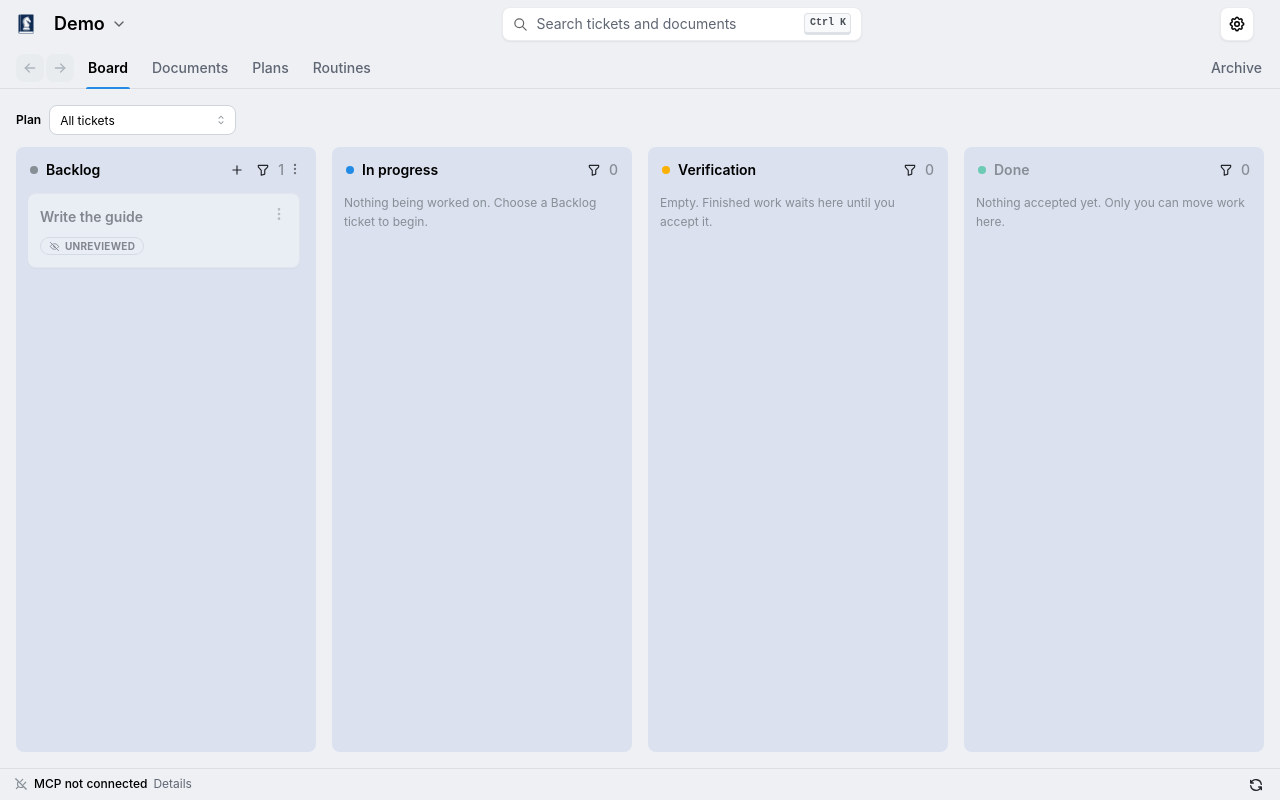
Scenario: back and forward › goes back through documents and views, and forward again
Check: the text "Write the guide" is shown, box [40,208,143,225]
Click the tab "Documents" at coordinates (190, 68), box [150,48,230,88]
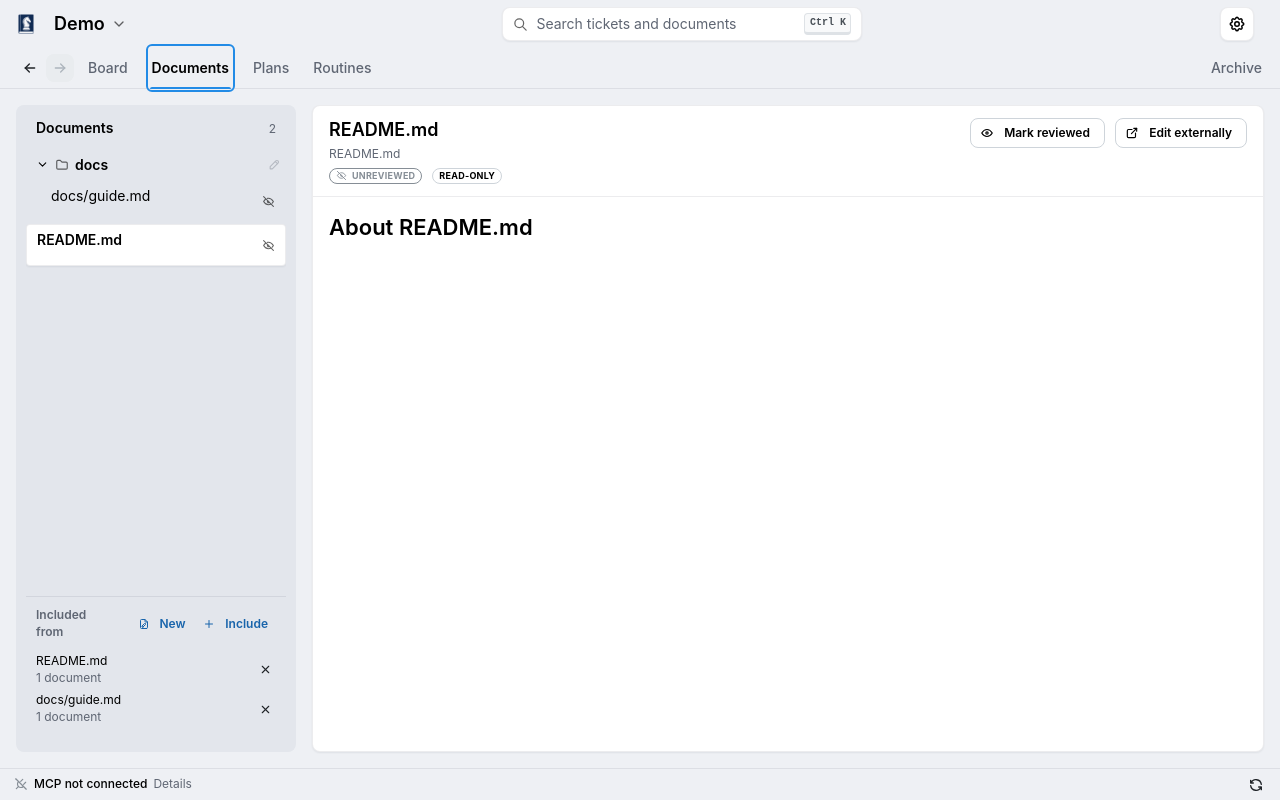
Click the button "docs/guide.md" at coordinates (163, 201), box [40,180,286,222]
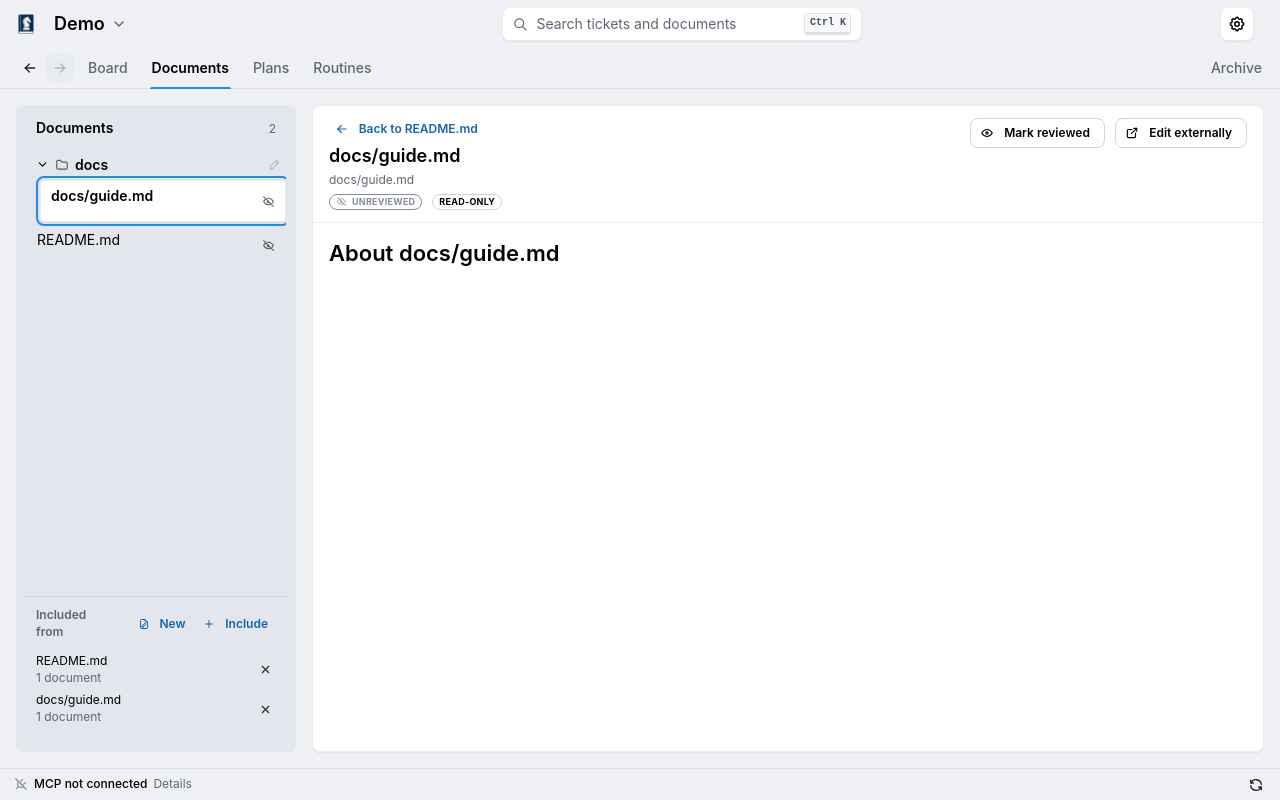
Click the button named "Back" at coordinates (30, 68), box [16,54,44,82]
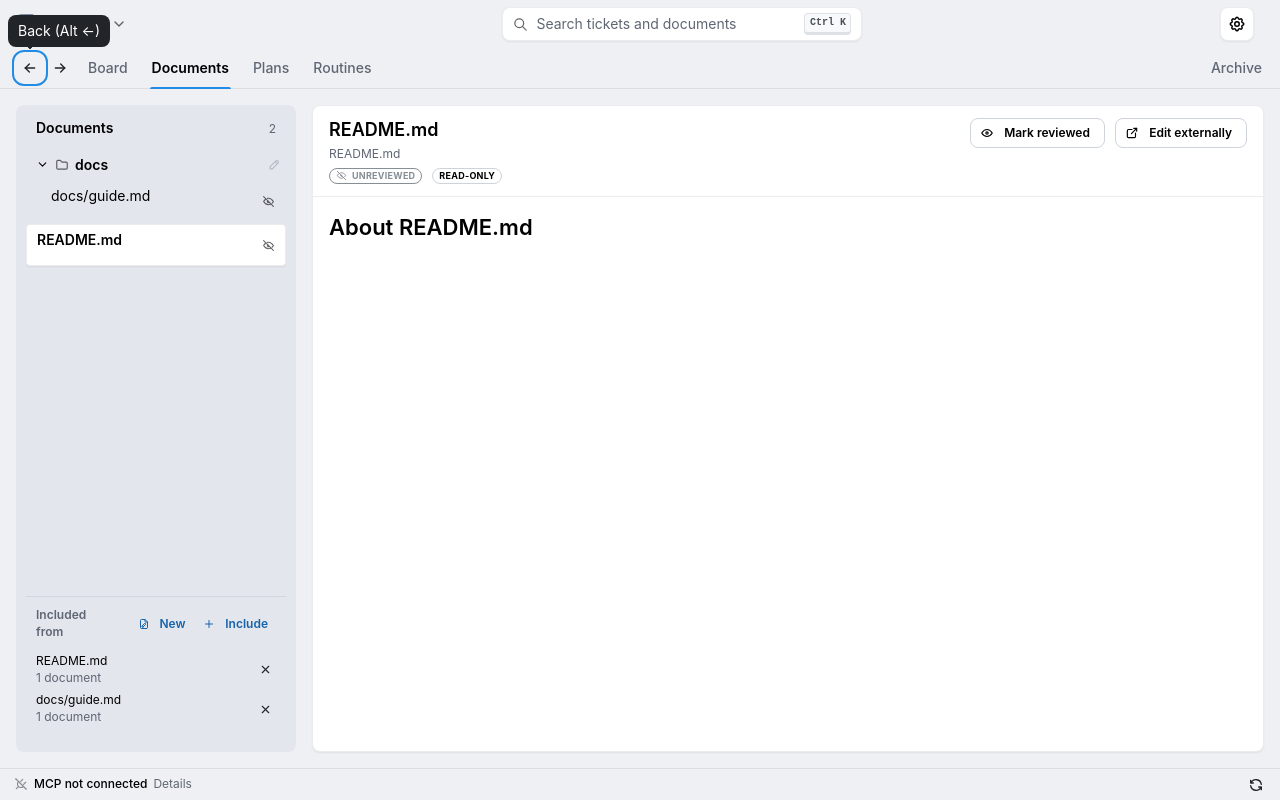
Click the button named "Back" at coordinates (30, 68), box [16,54,44,82]
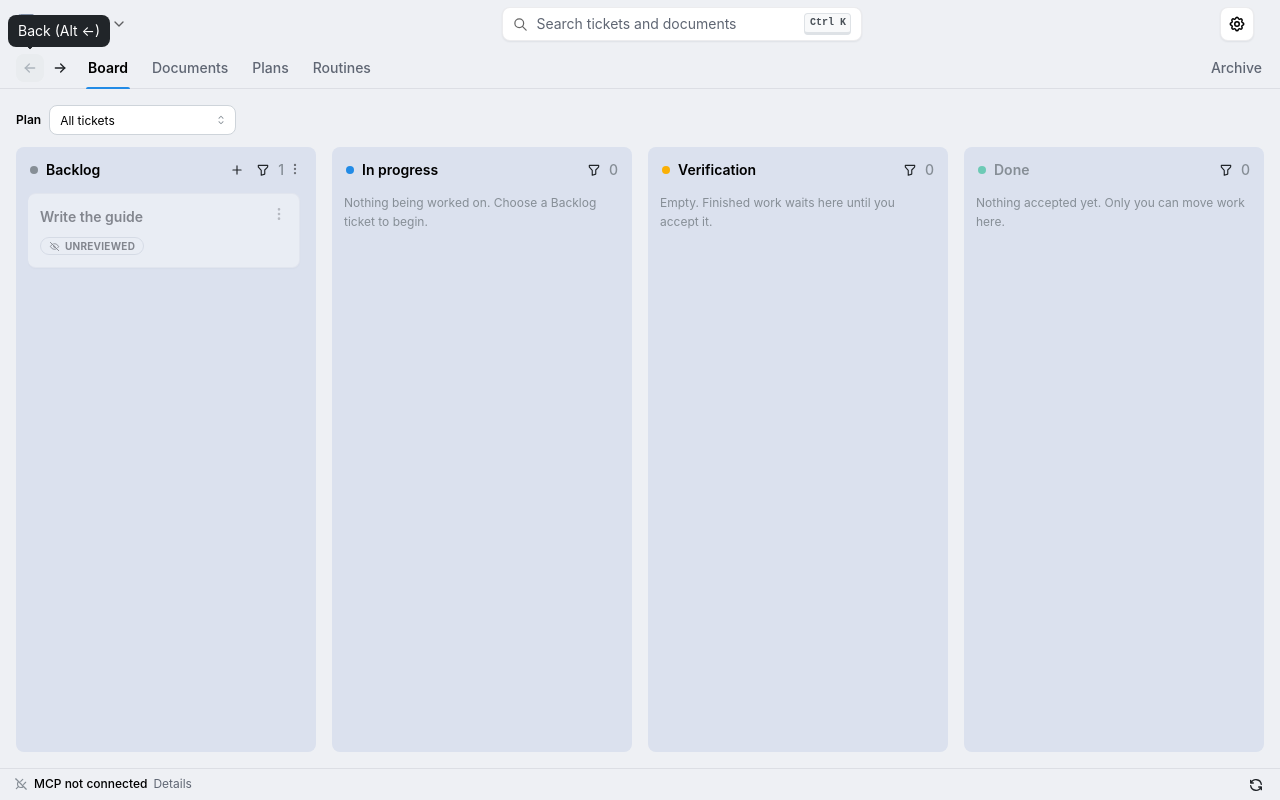
Check: the text "Write the guide" is shown, box [40,208,143,225]
Click the button named "Forward" at coordinates (60, 68), box [46,54,74,82]
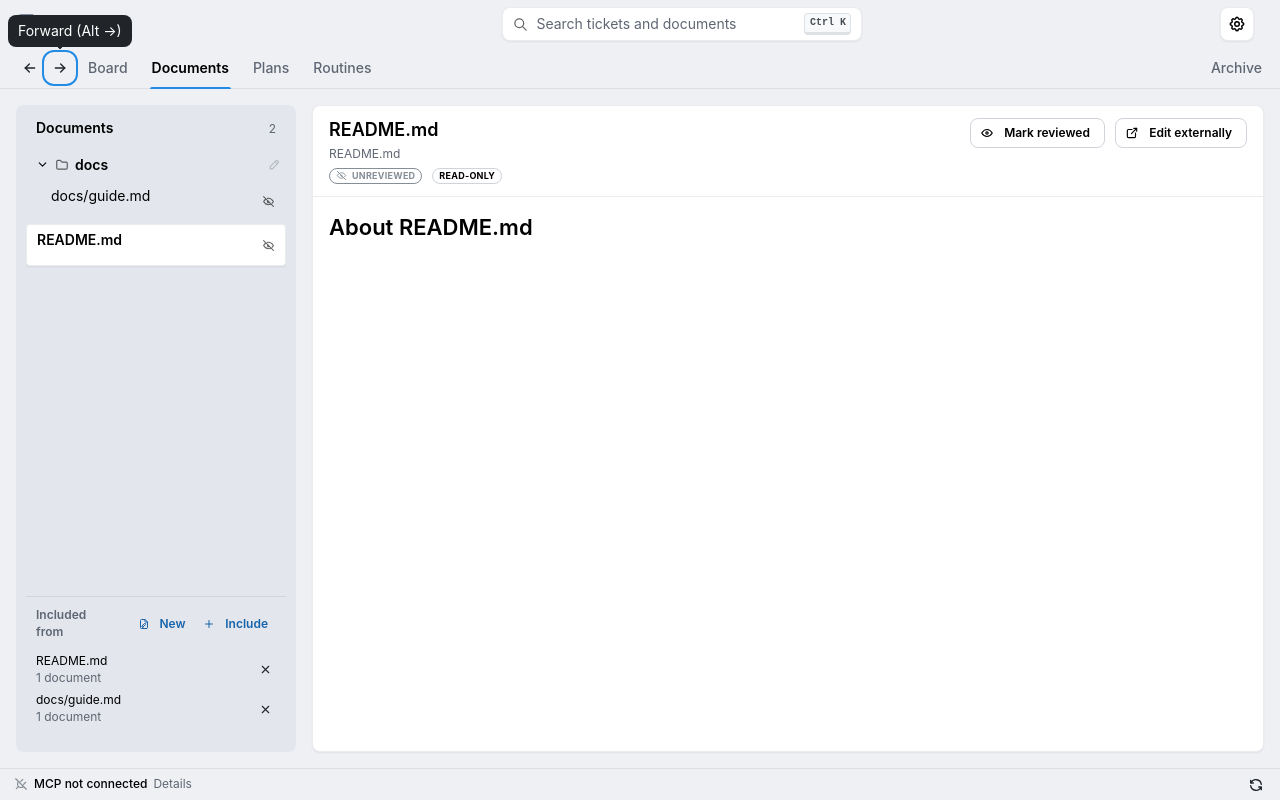
Click the button named "Forward" at coordinates (60, 68), box [46,54,74,82]
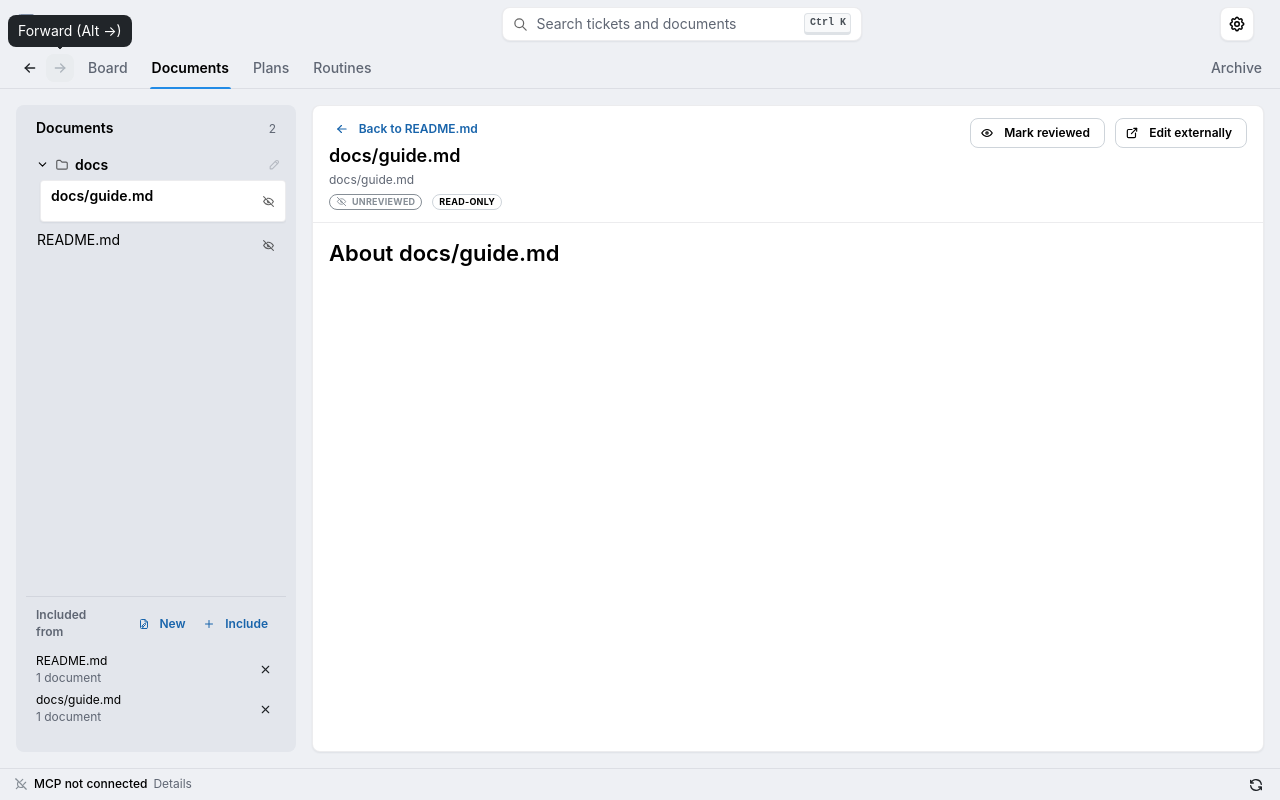
Check: the heading "About docs/guide.md" is shown, box [329,240,560,266]
